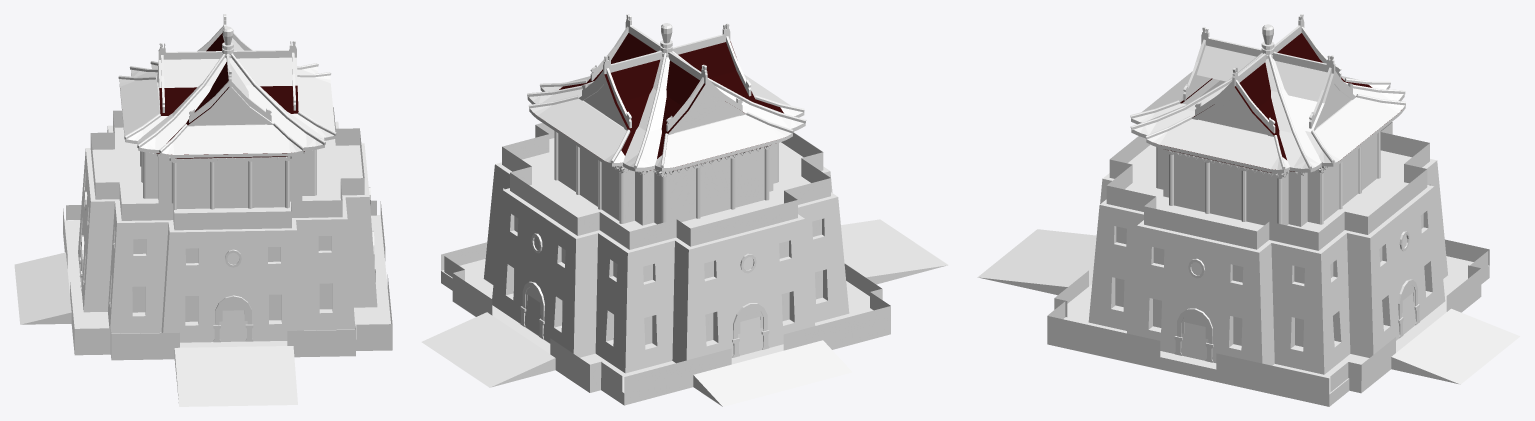
3 renders of one model, left to right at view 1: azimuth 30°, elevation 25°; view 2: azimuth 150°, elevation 25°; view 3: azimuth 270°, elevation 25°, orthographic. The views are drawn at different scales.
Visible parts, largest first — view 1: skpCD8E_001; view 2: skpCD8E_001; view 3: skpCD8E_001.
Part boxes in pixels (box(x1,y1,x2,y2)): skpCD8E_001: box(14, 14, 392, 406); skpCD8E_001: box(421, 14, 948, 406); skpCD8E_001: box(977, 14, 1519, 406).
Size of the model in its own units: 35524 by 24059 by 41531.
